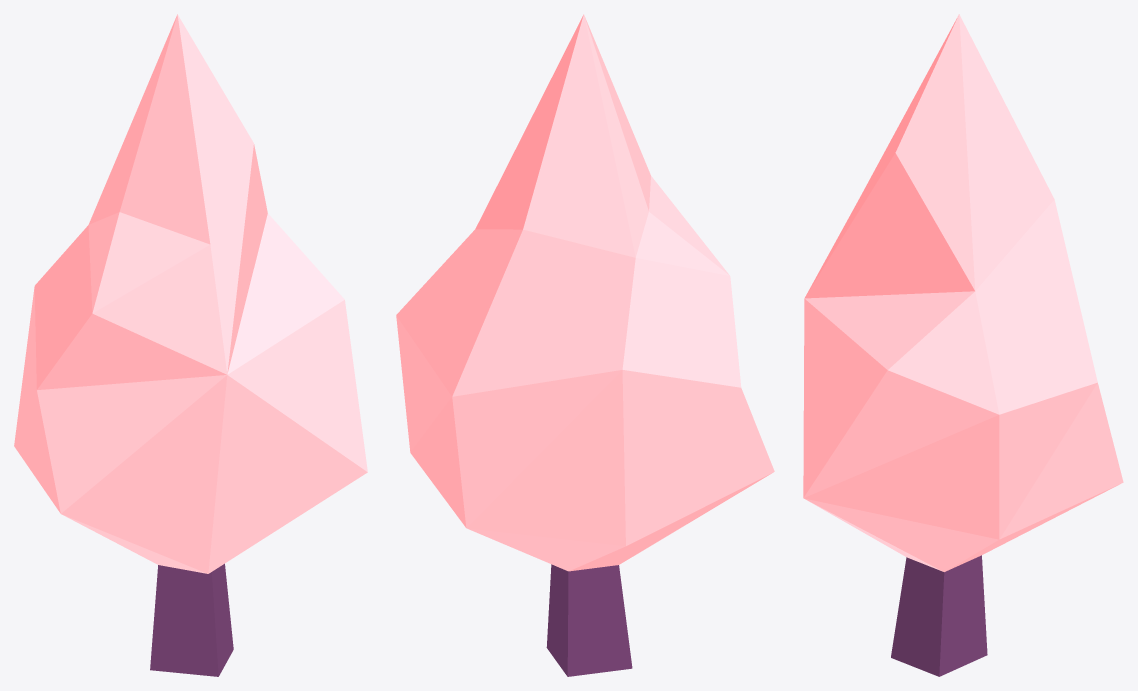
File: tree06.fbx
3 views of the same model, side by side, from view 1: azimuth 30°, elevation 25°; view 2: azimuth 150°, elevation 25°; view 3: azimuth 270°, elevation 25° (orthographic). The views are drawn at different scales.
Parts seen in each view (by area): view 1: tree02, tree02.001; view 2: tree02, tree02.001; view 3: tree02, tree02.001.
Part boxes in pixels (x1=…): tree02: x1=14, y1=14, x2=367, y2=573; tree02.001: x1=150, y1=563, x2=233, y2=676; tree02: x1=396, y1=14, x2=774, y2=571; tree02.001: x1=546, y1=564, x2=632, y2=676; tree02: x1=803, y1=14, x2=1123, y2=571; tree02.001: x1=891, y1=555, x2=987, y2=676.
Bounding box in the file's own units: 2.81 × 5.44 × 2.46.
